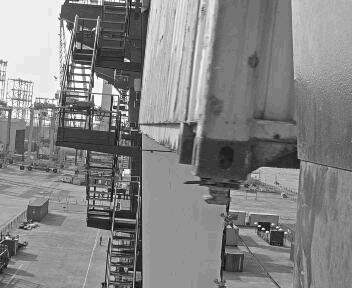twist_lock_1: (113, 155, 155, 187)
